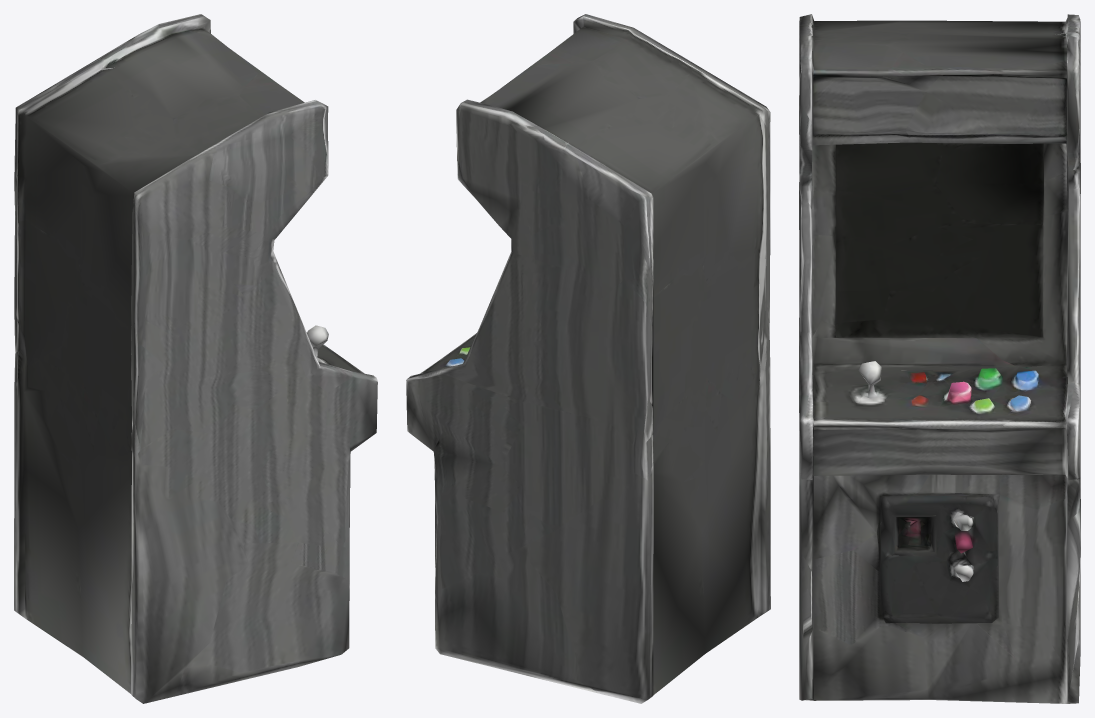
The model's file is au_furn_arcade_loft.glb.
The picture shows the model from 3 angles, left to right: view 1: azimuth 30°, elevation 25°; view 2: azimuth 150°, elevation 25°; view 3: azimuth 270°, elevation 25°; orthographic projection. The views are drawn at different scales.
Parts seen in each view (by area): view 1: tripo_node_cf519a5f-23fe-40a9-940a-c987a5279a60; view 2: tripo_node_cf519a5f-23fe-40a9-940a-c987a5279a60; view 3: tripo_node_cf519a5f-23fe-40a9-940a-c987a5279a60.
Part boxes in pixels (bbox=[...]): tripo_node_cf519a5f-23fe-40a9-940a-c987a5279a60: bbox=[14, 14, 377, 703]; tripo_node_cf519a5f-23fe-40a9-940a-c987a5279a60: bbox=[406, 14, 770, 703]; tripo_node_cf519a5f-23fe-40a9-940a-c987a5279a60: bbox=[799, 14, 1080, 703].
Size of the model in its own units: 0.4461 by 0.9794 by 0.3951.
Materials: 1 (1 with a texture image).
